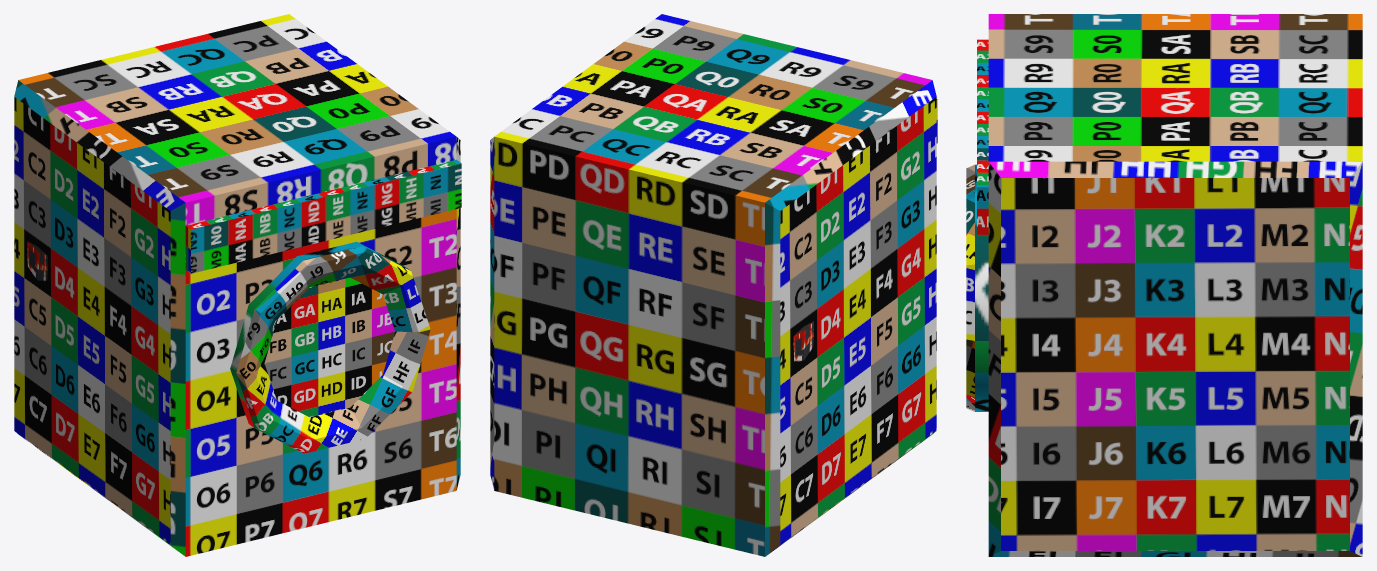
File: washingmachine1.FBX
The picture shows the model from 3 angles, left to right: view 1: azimuth 30°, elevation 25°; view 2: azimuth 150°, elevation 25°; view 3: azimuth 270°, elevation 25°; orthographic projection. The views are drawn at different scales.
Parts seen in each view (by area): view 1: Box022, washingmachine1; view 2: Box022; view 3: Box022, washingmachine1.
Boxes of the visible parts, <box> form: Box022: <box>14,14,461,556</box>; washingmachine1: <box>230,241,430,453</box>; Box022: <box>490,14,937,556</box>; Box022: <box>977,14,1362,556</box>; washingmachine1: <box>966,164,988,411</box>.
Bounding box in the file's own units: 1.35 × 1.57 × 1.42.
1 material, 1 textured.
